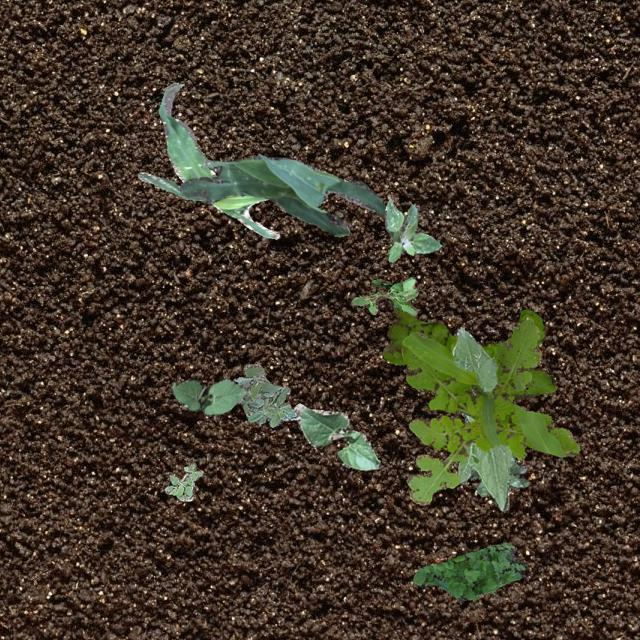crop: (136, 81, 278, 238), (178, 152, 384, 235), (450, 326, 510, 510), (292, 402, 378, 470), (170, 378, 250, 416)
weed: (400, 316, 578, 504), (382, 298, 554, 402), (412, 542, 526, 600), (234, 362, 296, 427), (384, 196, 441, 262), (350, 276, 418, 314), (474, 450, 528, 496), (164, 464, 202, 501)
